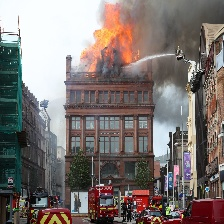fire: (71, 1, 139, 71)
smoke: (123, 1, 224, 74), (98, 53, 121, 77)
